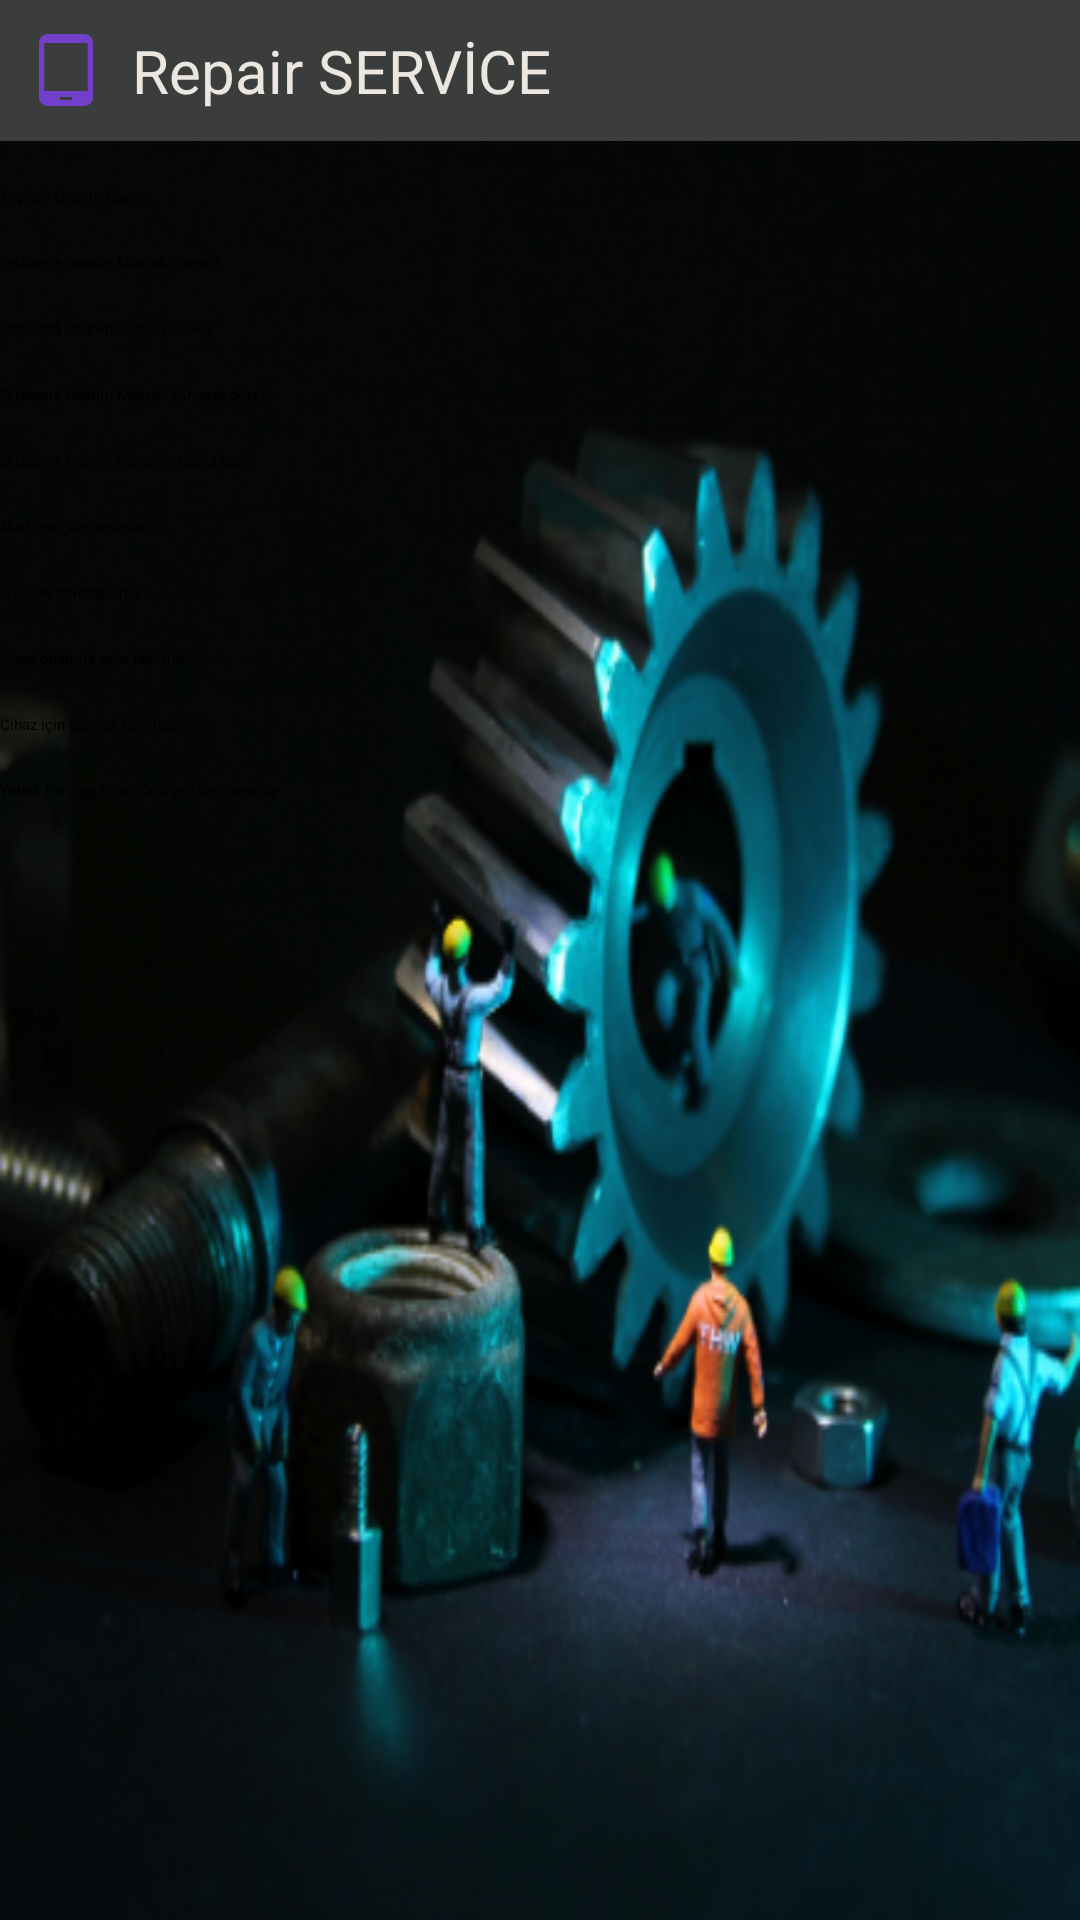

Icons on this 1080*1920 Android screen, each with its box as (x1, y1, x2, y2):
tablet android: (39, 34, 93, 106)
